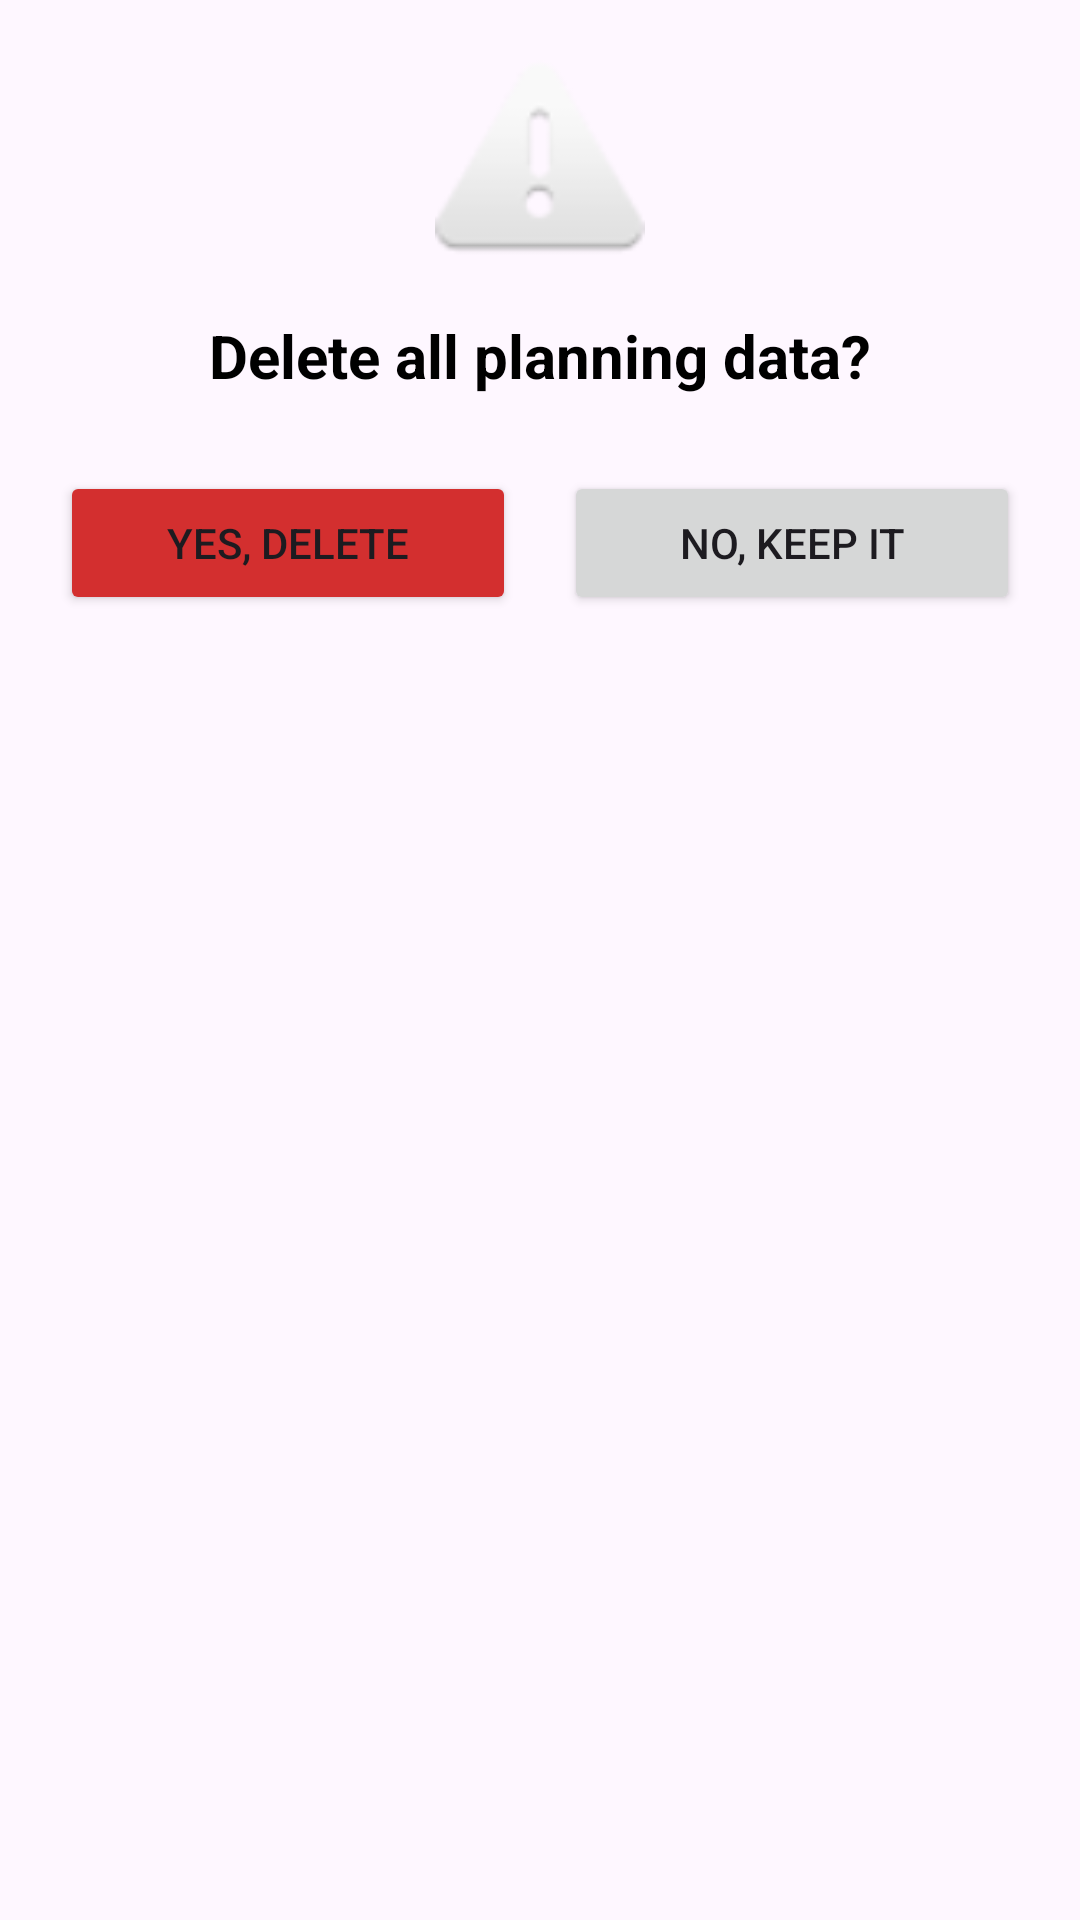

Named icons in this screenshot (1080x1920) and their centers, (x=x, y=y):
Warning Icon: (x=540, y=179)
